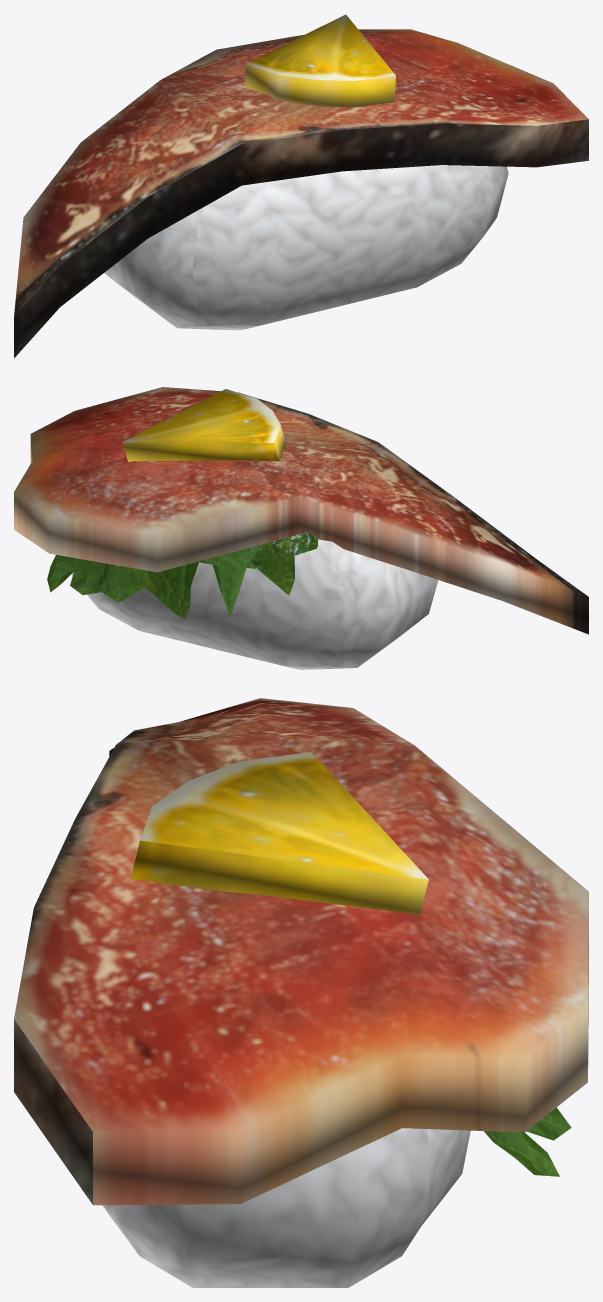
Rendered from skipjack_3.fbx.
The picture shows the model from 3 angles, top to bottom: view 1: azimuth 30°, elevation 25°; view 2: azimuth 150°, elevation 25°; view 3: azimuth 270°, elevation 25°; orthographic projection. The views are drawn at different scales.
Parts seen in each view (by area): view 1: skipjack_3; view 2: skipjack_3; view 3: skipjack_3.
Part boxes in pixels (bbox=[...]): skipjack_3: bbox=[14, 14, 588, 358]; skipjack_3: bbox=[14, 387, 588, 669]; skipjack_3: bbox=[14, 698, 588, 1287].
Bounding box in the file's own units: 8.94 × 3.43 × 4.38.
